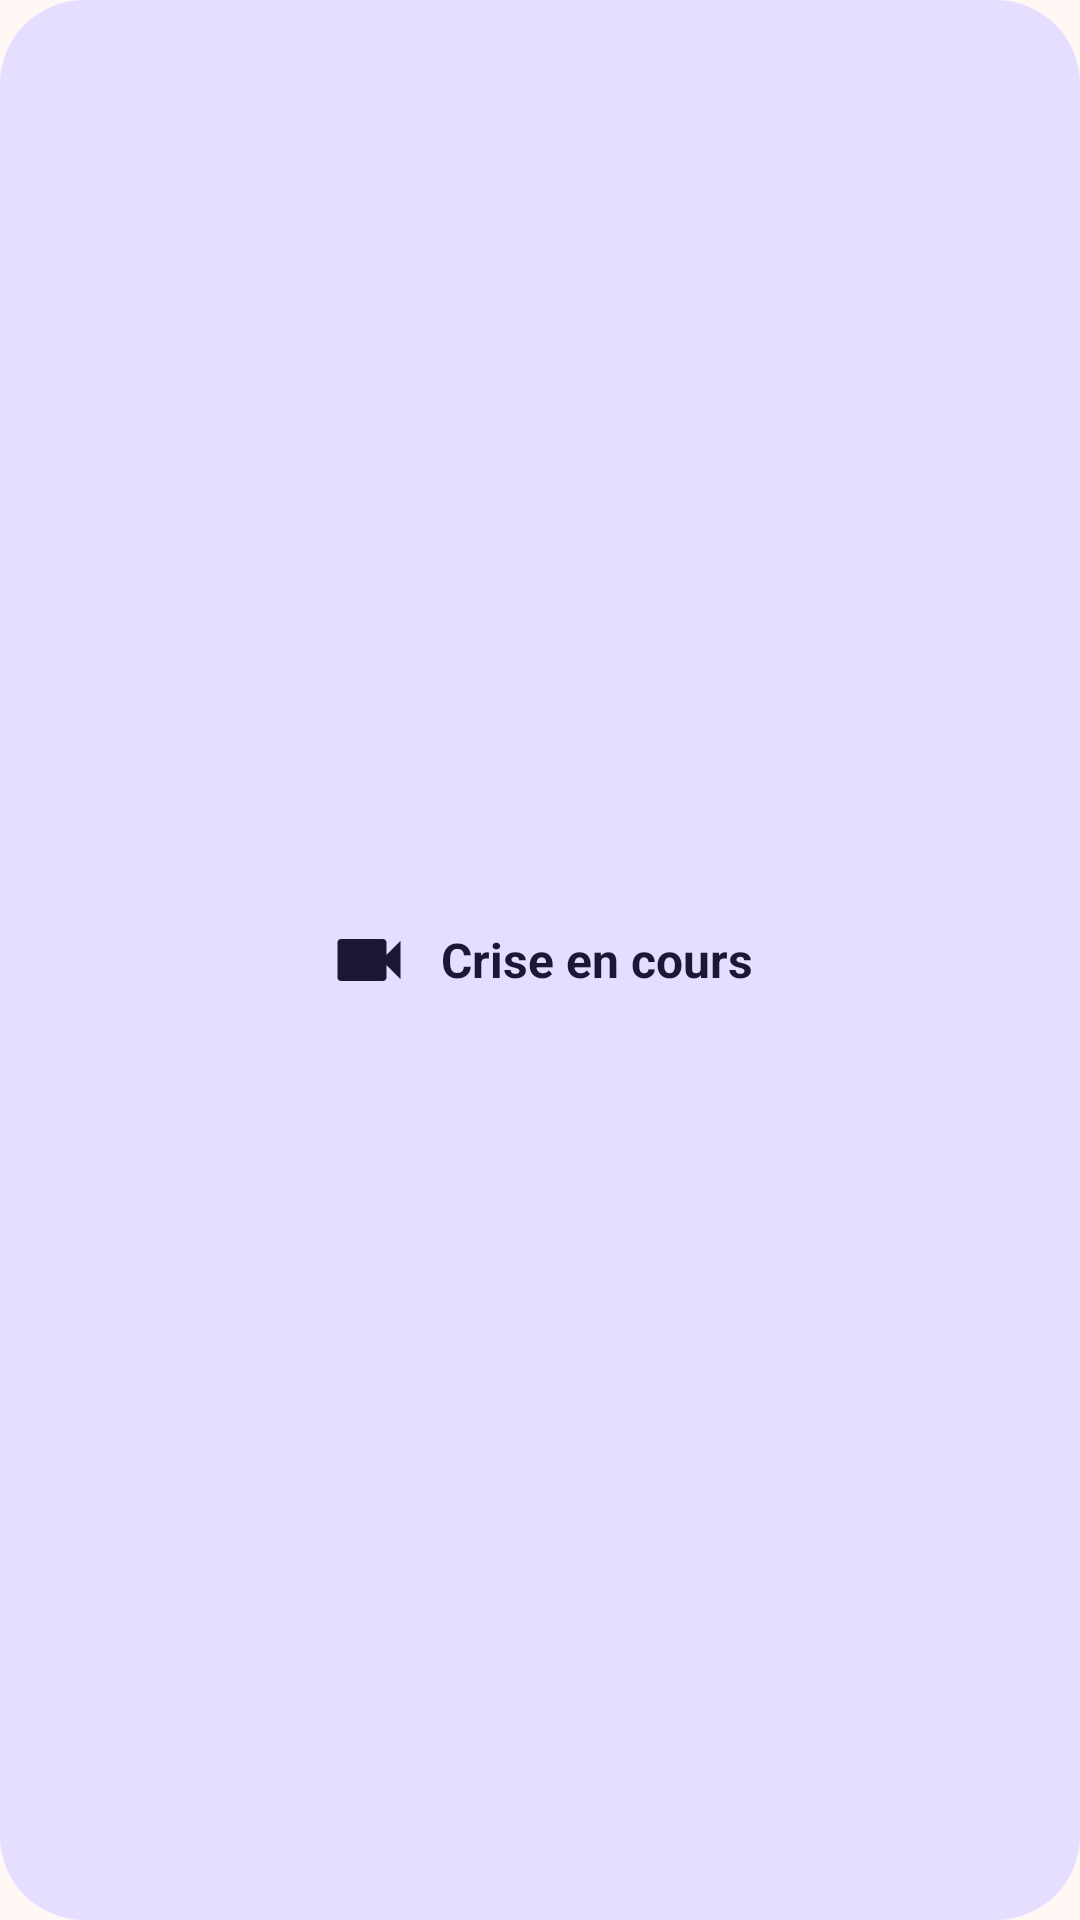

Icon bounding boxes for this 1080x1920 phone screenshot, format (x1, y1, x2, y2):
videocam widget: (337, 939, 401, 981)
